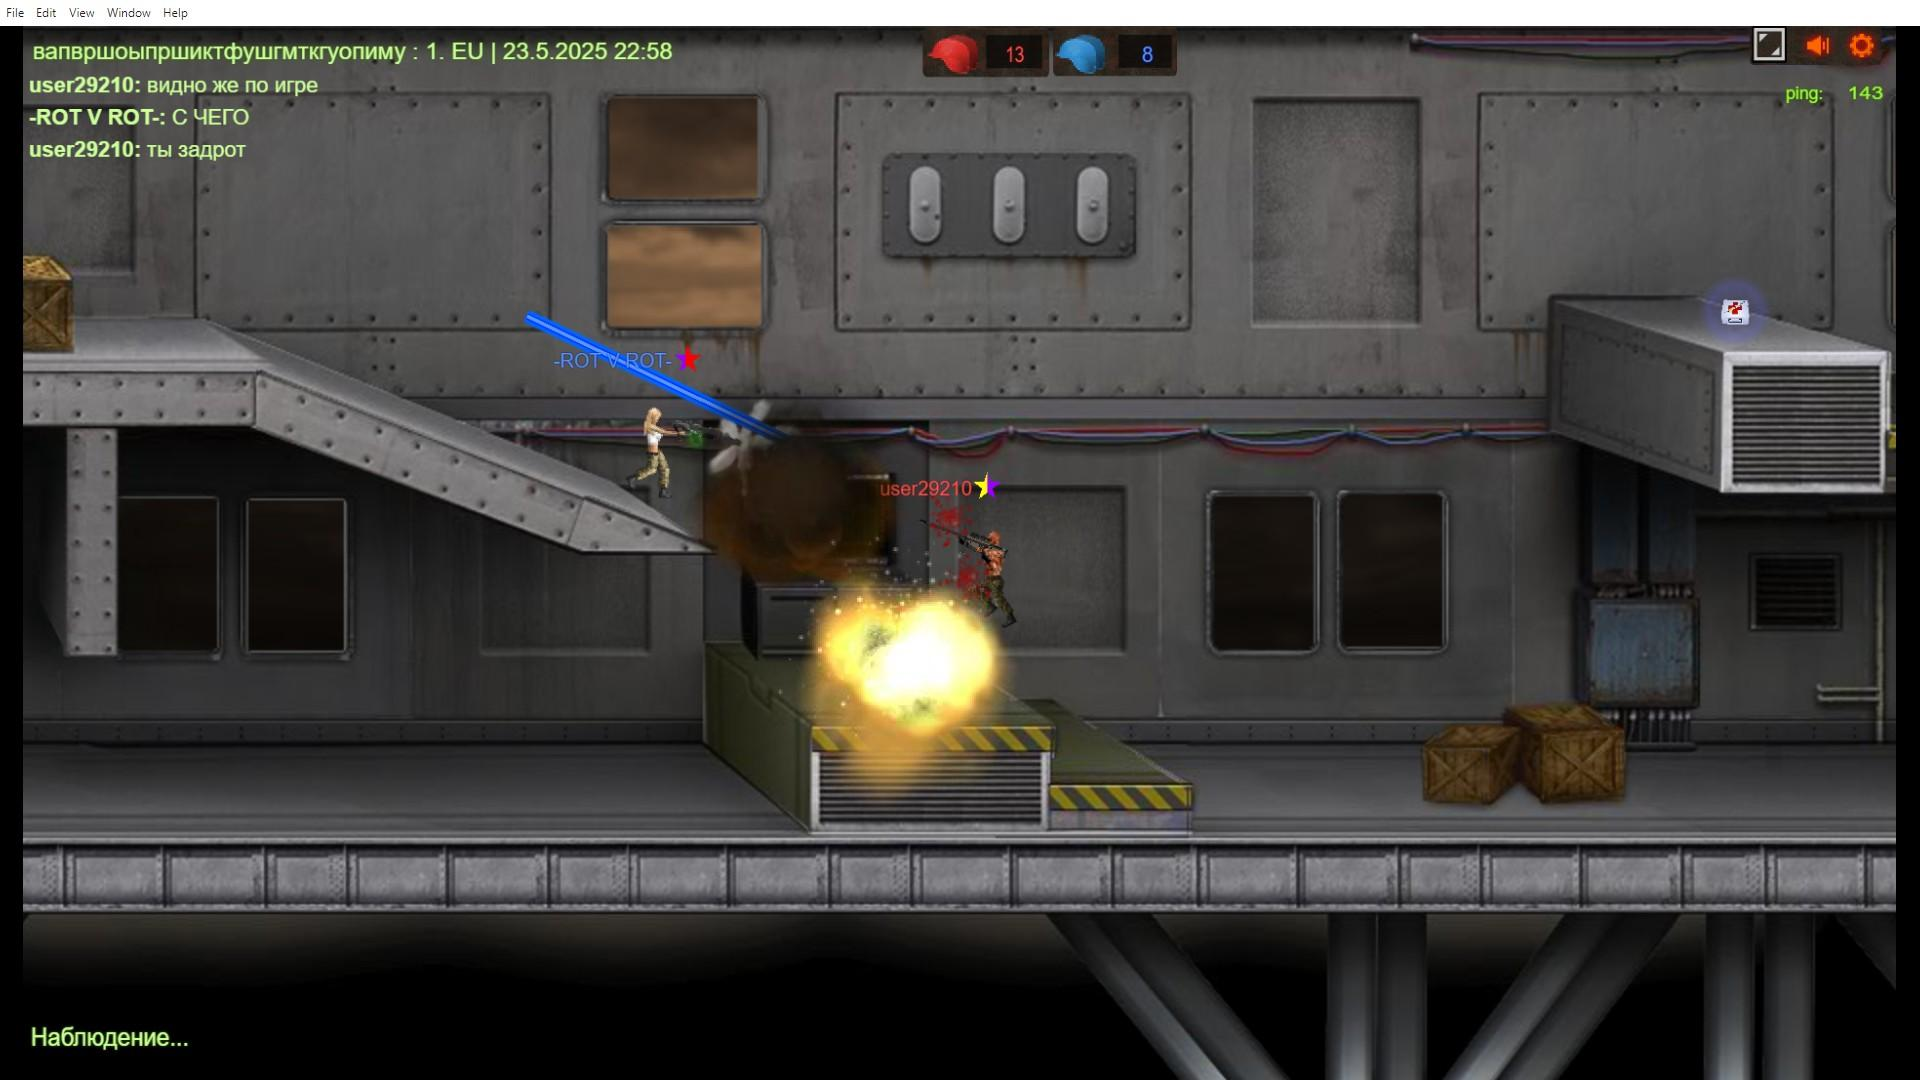enemy: (977, 526, 1021, 634), (636, 406, 674, 496)
